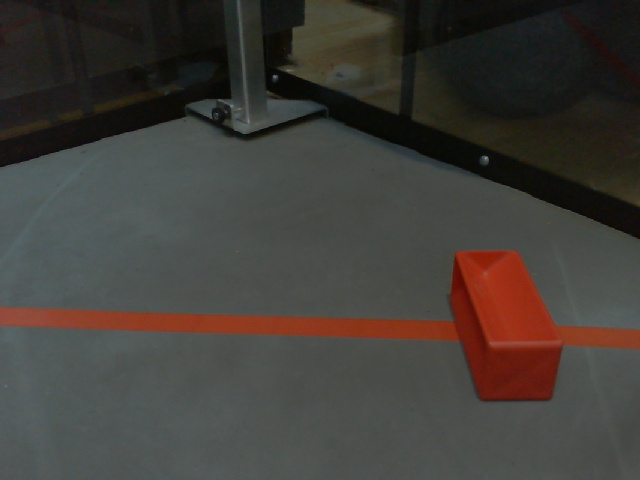RedSample: (445, 247, 565, 406)
